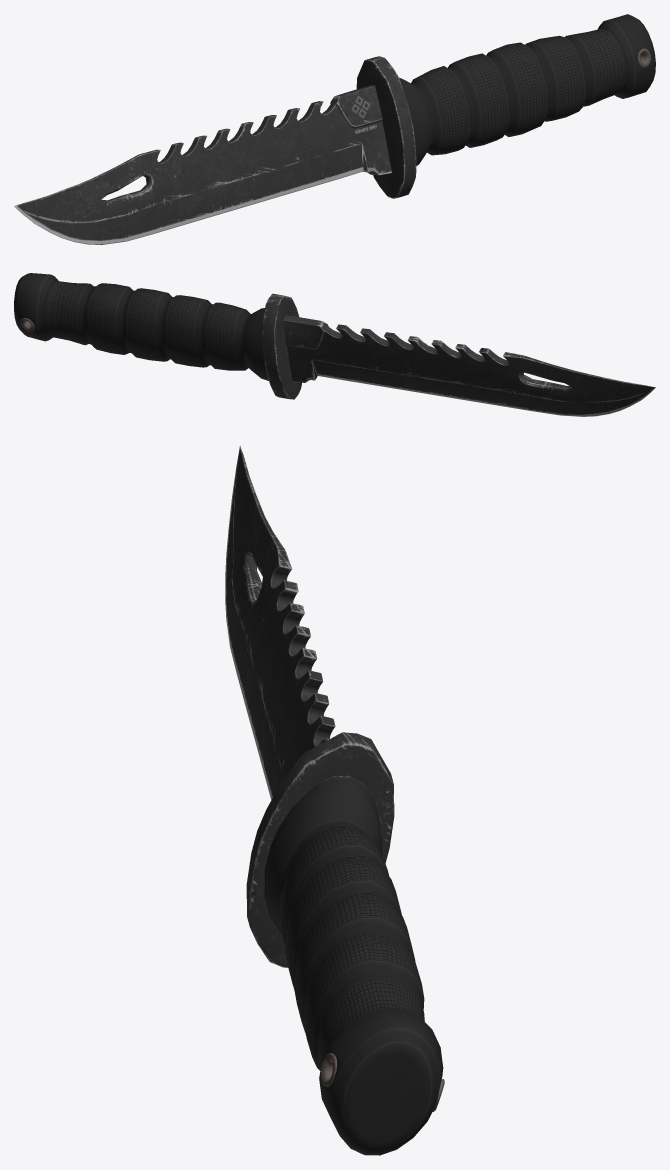
Rendered from knife.glb.
3 views of the same model, one above another, from view 1: azimuth 30°, elevation 25°; view 2: azimuth 150°, elevation 25°; view 3: azimuth 270°, elevation 25° (orthographic). The views are drawn at different scales.
Parts seen in each view (by area): view 1: knife_LOW_kinfe_0; view 2: knife_LOW_kinfe_0; view 3: knife_LOW_kinfe_0.
Part boxes in pixels (left/top/right/bottom): knife_LOW_kinfe_0: left=14, top=14, right=655, bottom=244; knife_LOW_kinfe_0: left=14, top=273, right=655, bottom=416; knife_LOW_kinfe_0: left=225, top=445, right=444, bottom=1155.
Size of the model in its own units: 4.31 by 0.7779 by 0.6847.
Materials: 1 (1 with a texture image).
